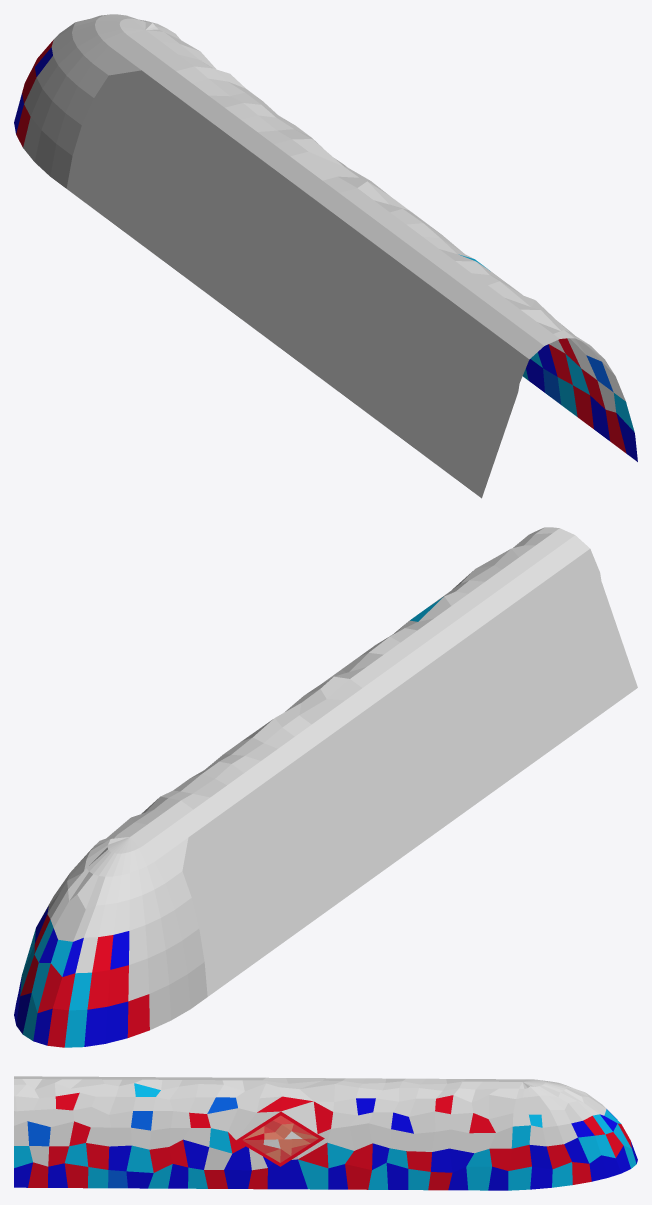
File: ParteAlargadaBaja2.fbx
3 views of the same model, one above another, from view 1: azimuth 30°, elevation 25°; view 2: azimuth 150°, elevation 25°; view 3: azimuth 270°, elevation 25° (orthographic). The views are drawn at different scales.
Parts seen in each view (by area): view 1: ParteAlargadaBaja2; view 2: ParteAlargadaBaja2; view 3: ParteAlargadaBaja2.
Boxes of the visible parts, x1,y1,x2,y2 form: ParteAlargadaBaja2: [14, 14, 637, 498]; ParteAlargadaBaja2: [14, 527, 637, 1047]; ParteAlargadaBaja2: [14, 1076, 637, 1190].
Bounding box in the file's own units: 97.21 × 82.26 × 534.
